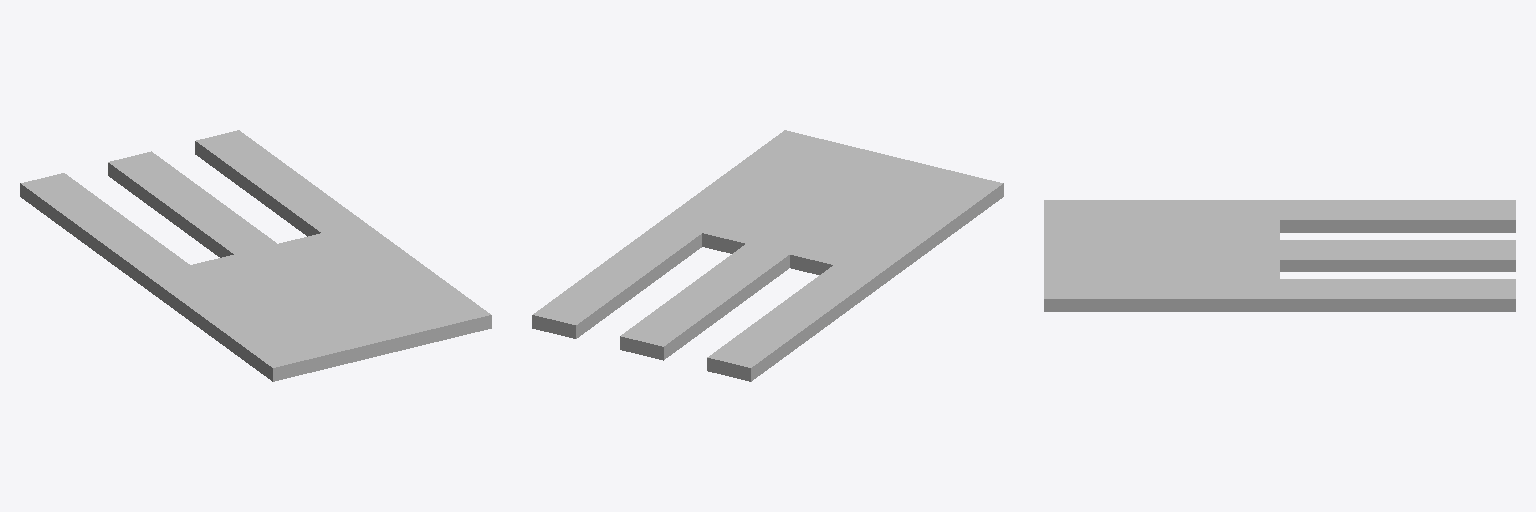
robot.urdf — test_2:
<?xml version="1.0"?>
<robot name="test_2">
  <material name="face_material">
    <color rgba="0.8 0.8 0.8 1.0"/>
  </material>
  <link name="face_0">
    <visual>
      <geometry>
        <mesh filename="meshes/face_0.stl" scale="1.0 1.0 1.0"/>
      </geometry>
      <material name="face_material"/>
    </visual>
  </link>
  <link name="face_1">
    <visual>
      <geometry>
        <mesh filename="meshes/face_1.stl" scale="1.0 1.0 1.0"/>
      </geometry>
      <material name="face_material"/>
    </visual>
  </link>
  <link name="face_2">
    <visual>
      <geometry>
        <mesh filename="meshes/face_2.stl" scale="1.0 1.0 1.0"/>
      </geometry>
      <material name="face_material"/>
    </visual>
  </link>
  <link name="face_3">
    <visual>
      <geometry>
        <mesh filename="meshes/face_3.stl" scale="1.0 1.0 1.0"/>
      </geometry>
      <material name="face_material"/>
    </visual>
  </link>
  <link name="face_4">
    <visual>
      <geometry>
        <mesh filename="meshes/face_4.stl" scale="1.0 1.0 1.0"/>
      </geometry>
      <material name="face_material"/>
    </visual>
  </link>
  <link name="face_5">
    <visual>
      <geometry>
        <mesh filename="meshes/face_5.stl" scale="1.0 1.0 1.0"/>
      </geometry>
      <material name="face_material"/>
    </visual>
  </link>
  <link name="face_6">
    <visual>
      <geometry>
        <mesh filename="meshes/face_6.stl" scale="1.0 1.0 1.0"/>
      </geometry>
      <material name="face_material"/>
    </visual>
  </link>
  <joint name="joint_0" type="revolute">
    <parent link="face_0"/>
    <child link="face_2"/>
    <origin xyz="5.000000 50.000000 0.000000" rpy="0 0 0"/>
    <axis xyz="1.000000 0.000000 0.000000"/>
    <limit effort="10" velocity="3.14" lower="-1.57" upper="1.57"/>
  </joint>
  <joint name="joint_1" type="revolute">
    <parent link="face_0"/>
    <child link="face_4"/>
    <origin xyz="25.000000 50.000000 0.000000" rpy="0 0 0"/>
    <axis xyz="1.000000 0.000000 0.000000"/>
    <limit effort="10" velocity="3.14" lower="-1.57" upper="1.57"/>
  </joint>
  <joint name="joint_2" type="revolute">
    <parent link="face_0"/>
    <child link="face_1"/>
    <origin xyz="45.000000 50.000000 0.000000" rpy="0 0 0"/>
    <axis xyz="1.000000 -0.000000 0.000000"/>
    <limit effort="10" velocity="3.14" lower="-1.57" upper="1.57"/>
  </joint>
  <joint name="joint_3" type="revolute">
    <parent link="face_1"/>
    <child link="face_6"/>
    <origin xyz="0.000000 25.000000 -3.000000" rpy="0 0 0"/>
    <axis xyz="-1.000000 -0.000000 0.000000"/>
    <limit effort="10" velocity="3.14" lower="-1.57" upper="1.57"/>
  </joint>
  <joint name="joint_4" type="revolute">
    <parent link="face_2"/>
    <child link="face_3"/>
    <origin xyz="0.000000 25.000000 -3.000000" rpy="0 0 0"/>
    <axis xyz="-1.000000 -0.000000 0.000000"/>
    <limit effort="10" velocity="3.14" lower="-1.57" upper="1.57"/>
  </joint>
  <joint name="joint_5" type="revolute">
    <parent link="face_4"/>
    <child link="face_5"/>
    <origin xyz="0.000000 25.000000 -3.000000" rpy="0 0 0"/>
    <axis xyz="-1.000000 -0.000000 0.000000"/>
    <limit effort="10" velocity="3.14" lower="-1.57" upper="1.57"/>
  </joint>
</robot>

--- What the picture shows (computed from the rendered views, not written in the file) ---
3 views of the same robot in one strip: view 1: azimuth 30°, elevation 25°; view 2: azimuth 150°, elevation 25°; view 3: azimuth 270°, elevation 25° (orthographic).
Robot: test_2 — 7 links, 6 joints (6 revolute); root link face_0; default pose: every joint at zero.
Links seen in each view (by area): view 1: face_0, face_3, face_2, face_5, face_6, face_1, face_4; view 2: face_0, face_6, face_3, face_5, face_2, face_4, face_1; view 3: face_0, face_1, face_2, face_3, face_6, face_4, face_5.
Link boxes in pixels (<box>): face_0: <box>147,223,491,381</box>; face_3: <box>20,173,126,242</box>; face_2: <box>84,219,189,288</box>; face_5: <box>108,151,214,221</box>; face_6: <box>195,130,300,199</box>; face_1: <box>258,176,364,236</box>; face_4: <box>171,198,276,257</box>; face_0: <box>659,130,1003,288</box>; face_6: <box>532,269,638,338</box>; face_3: <box>707,311,813,381</box>; face_5: <box>620,290,726,360</box>; face_2: <box>771,265,876,335</box>; face_4: <box>684,244,789,313</box>; face_1: <box>596,223,701,292</box>; face_0: <box>1044,200,1279,311</box>; face_1: <box>1280,279,1397,311</box>; face_2: <box>1280,200,1397,232</box>; face_3: <box>1398,200,1515,232</box>; face_6: <box>1398,279,1515,311</box>; face_4: <box>1280,240,1397,271</box>; face_5: <box>1398,240,1515,271</box>.
Bounding box of the posed robot: 50 × 100 × 3 m (x, y, z).
7 mesh visuals loaded from 7 distinct referenced files (7 binary STL).
